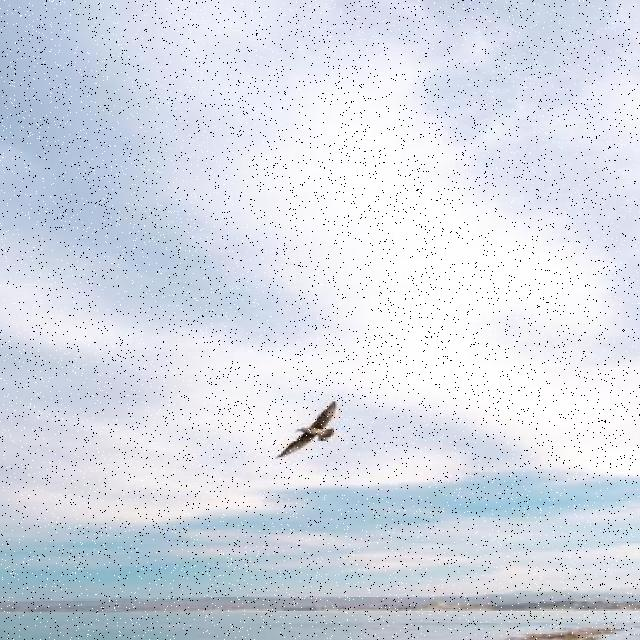bird: (275, 399, 337, 459)
